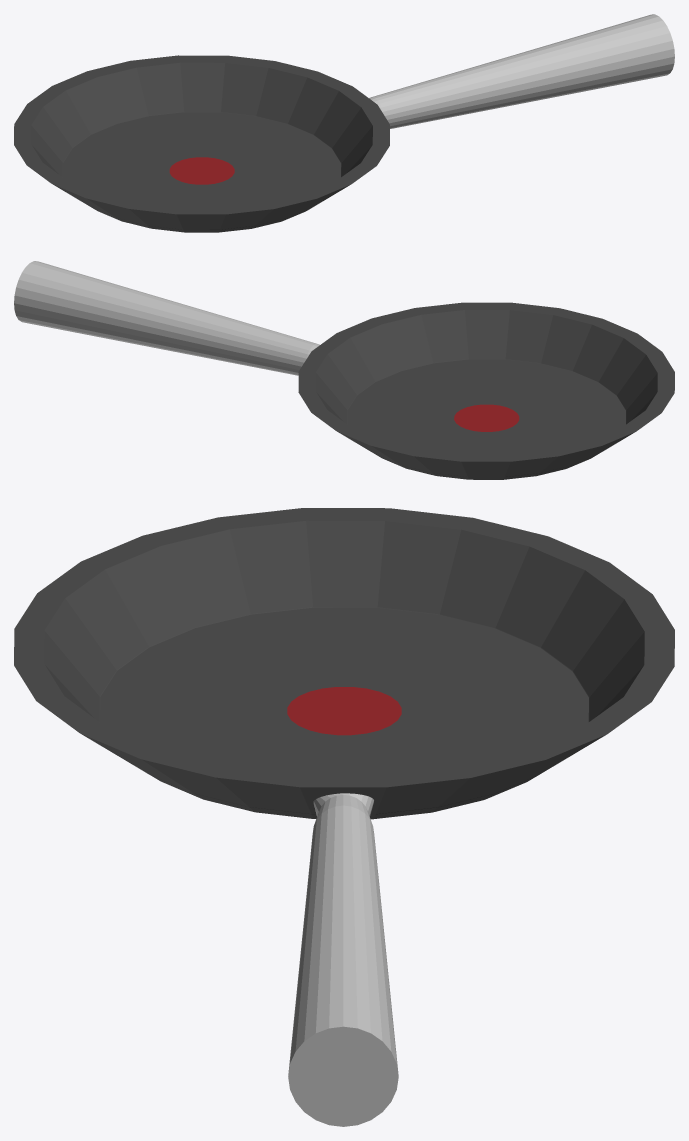
The model's file is Pan.fbx.
3 renders of one model, top to bottom at view 1: azimuth 30°, elevation 25°; view 2: azimuth 150°, elevation 25°; view 3: azimuth 270°, elevation 25°, orthographic. The views are drawn at different scales.
Visible parts, largest first — view 1: Pan, Pan Handle; view 2: Pan, Pan Handle; view 3: Pan, Pan Handle.
Boxes of the visible parts, x1,y1,x2,y2 form: Pan: [14, 55, 389, 232]; Pan Handle: [369, 14, 674, 128]; Pan: [298, 302, 674, 479]; Pan Handle: [14, 261, 319, 375]; Pan: [14, 508, 674, 819]; Pan Handle: [288, 793, 398, 1126].
Bounding box in the file's own units: 545 × 47.92 × 286.
